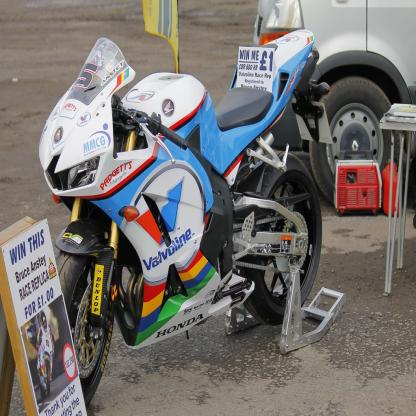Helmet: (39, 312, 47, 328)
